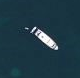ship: (23, 24, 61, 52)
